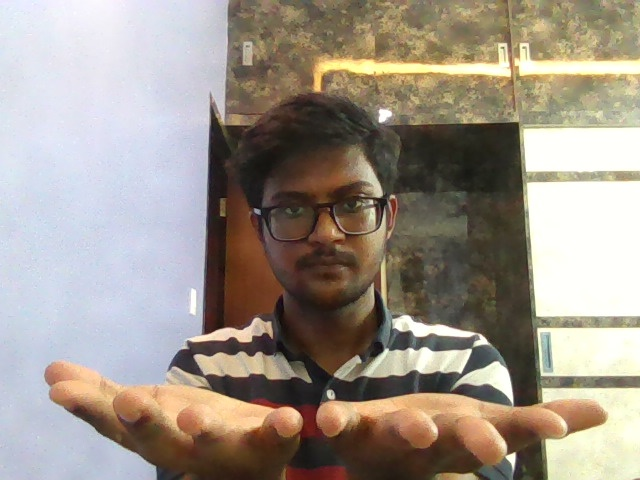what: (30, 343, 636, 480)
